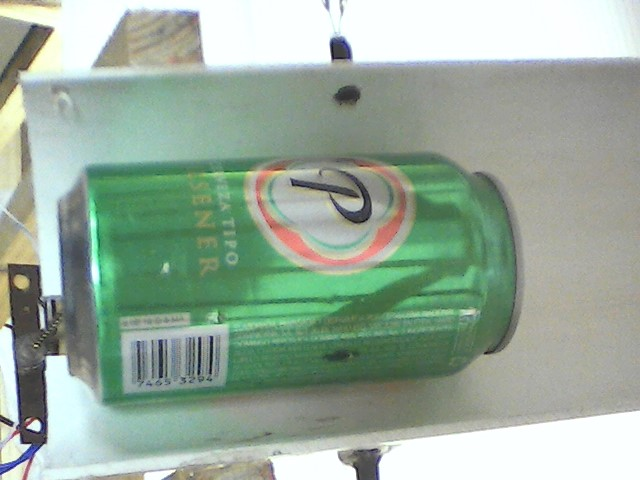lata: (53, 148, 530, 407)
